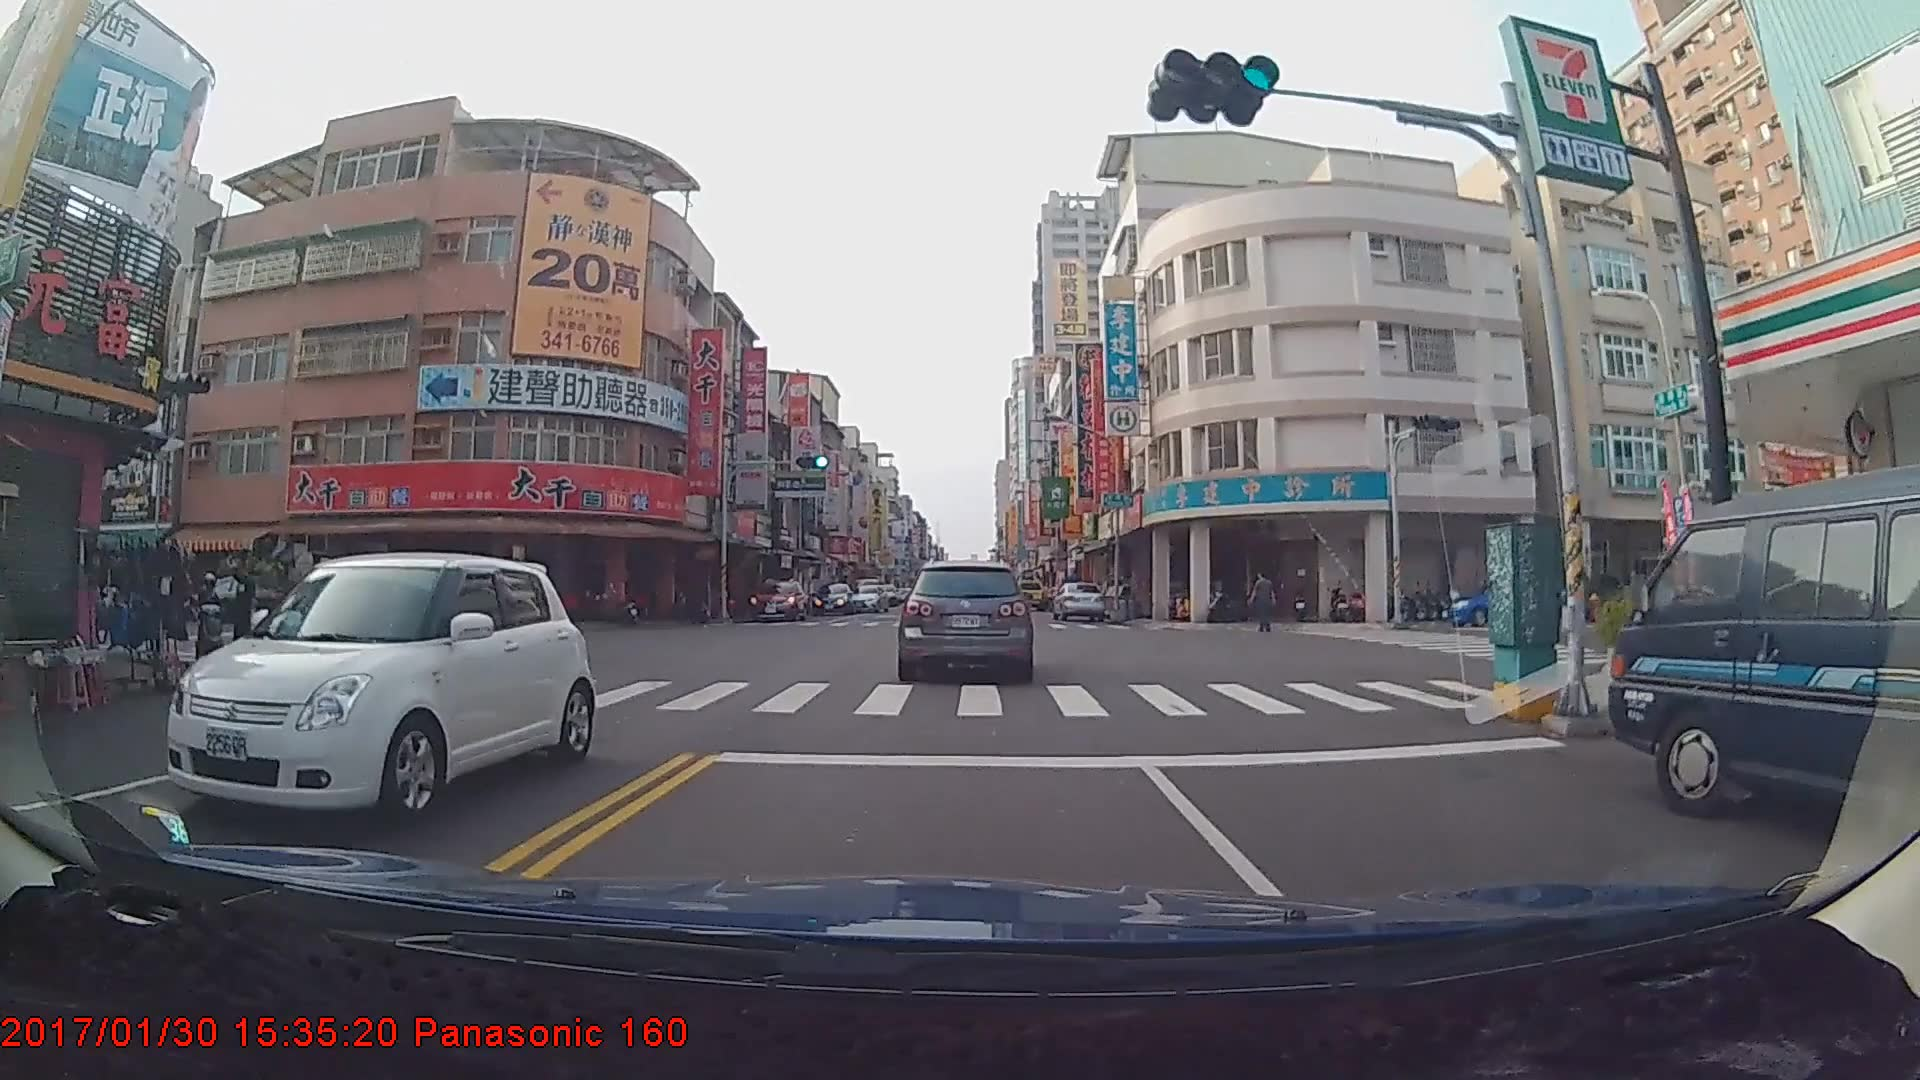pedestrian: (224, 571, 260, 673), (1250, 573, 1278, 637)
rider: (187, 565, 227, 670)
vehicle: (1604, 456, 1919, 884), (163, 539, 602, 830), (897, 559, 1034, 684), (1439, 578, 1570, 631), (752, 576, 806, 622), (1050, 579, 1106, 622), (810, 581, 854, 614), (844, 583, 886, 612), (1009, 581, 1045, 616)
